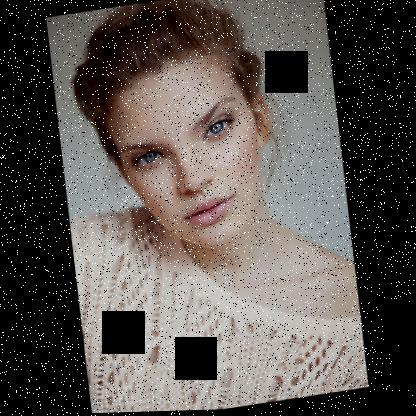Female: (100, 44, 281, 262)
